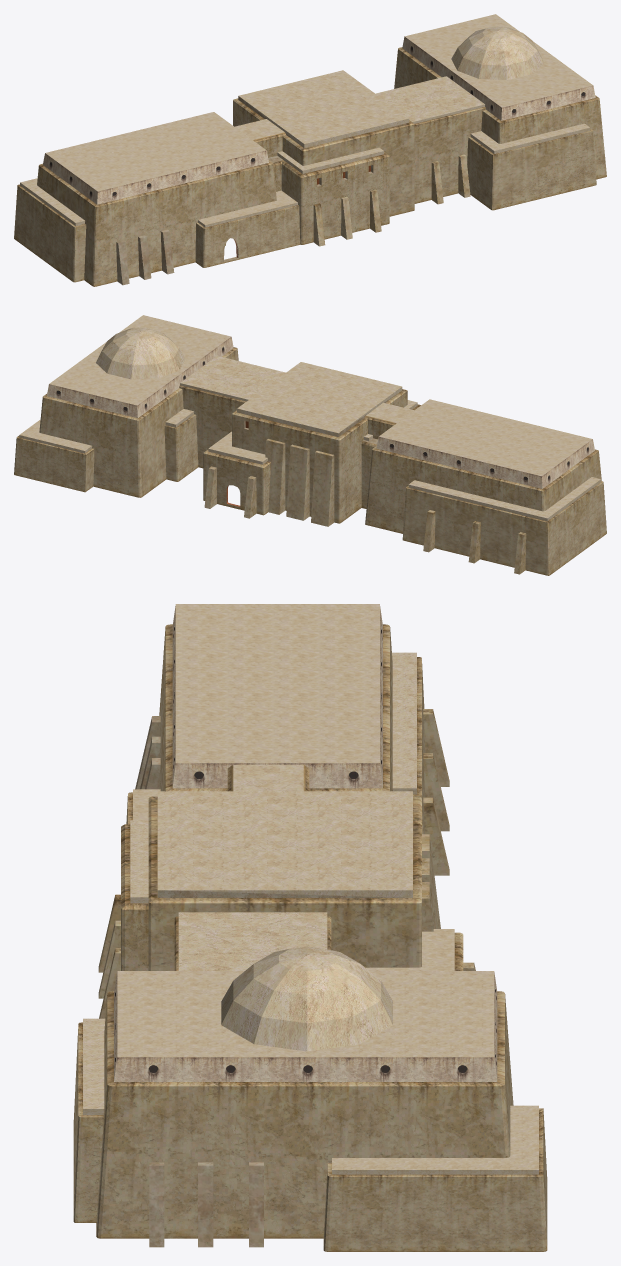
File: thm_tato_block_bldg_64x32_s02_r0_exterior_mesh_l0.fbx
3 renders of one model, top to bottom at view 1: azimuth 30°, elevation 25°; view 2: azimuth 150°, elevation 25°; view 3: azimuth 270°, elevation 25°, orthographic. The views are drawn at different scales.
Parts seen in each view (by area): view 1: mesh_node; view 2: mesh_node; view 3: mesh_node.
Boxes of the visible parts, <box> form: mesh_node: <box>14,14,606,286</box>; mesh_node: <box>14,315,606,575</box>; mesh_node: <box>73,604,547,1251</box>.
Bounding box in the file's own units: 77.98 × 17.06 × 31.65.
